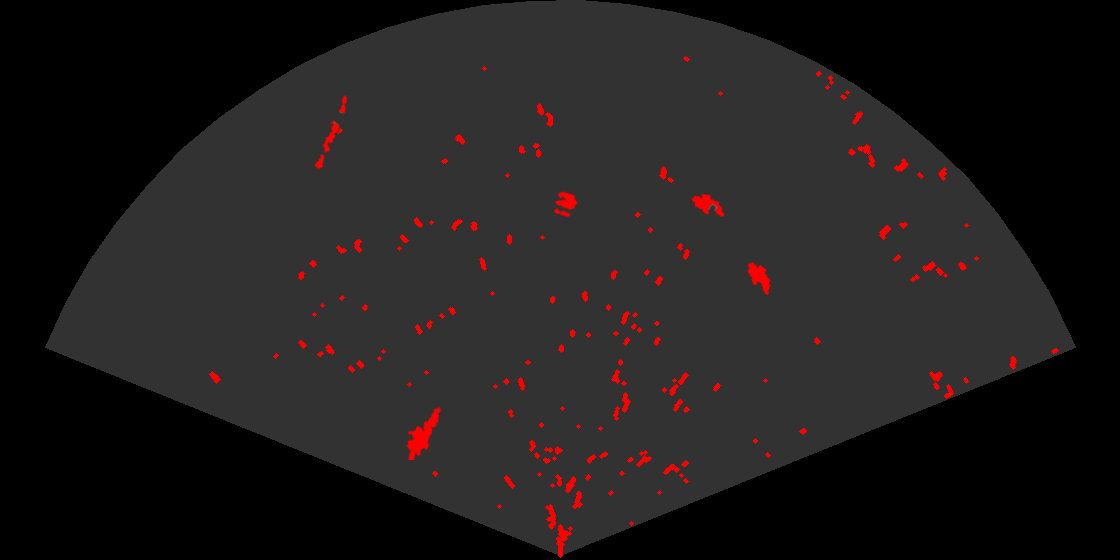AUV: (690, 192, 726, 219), (746, 260, 772, 297)
ball: (552, 190, 579, 219)
chain: (313, 93, 349, 176)
frogman: (405, 405, 442, 460)
